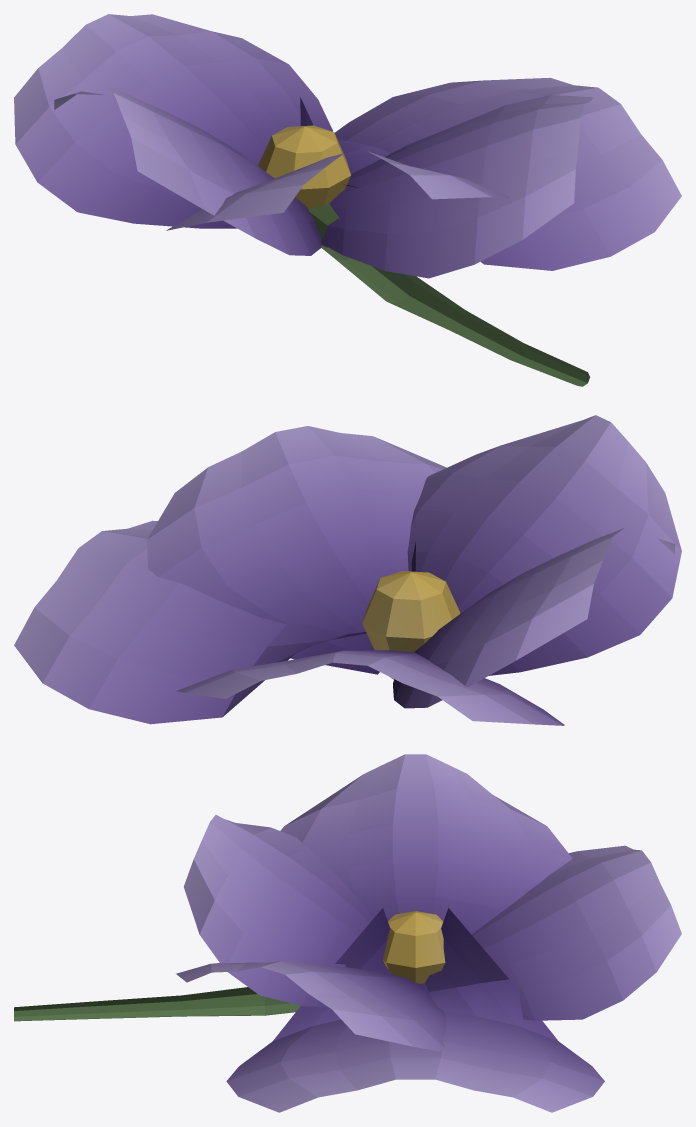
Rendered from Violet_far.glb.
3 views of the same model, one above another, from view 1: azimuth 30°, elevation 25°; view 2: azimuth 150°, elevation 25°; view 3: azimuth 270°, elevation 25° (orthographic). The views are drawn at different scales.
Visible parts, largest first — view 1: Violet_far; view 2: Violet_far; view 3: Violet_far.
Boxes of the visible parts, box(x1,y1,x2,y2) form: Violet_far: box(14, 14, 681, 386); Violet_far: box(14, 415, 681, 725); Violet_far: box(14, 754, 681, 1112).
Bounding box in the file's own units: 0.6158 × 0.2304 × 0.7982.
